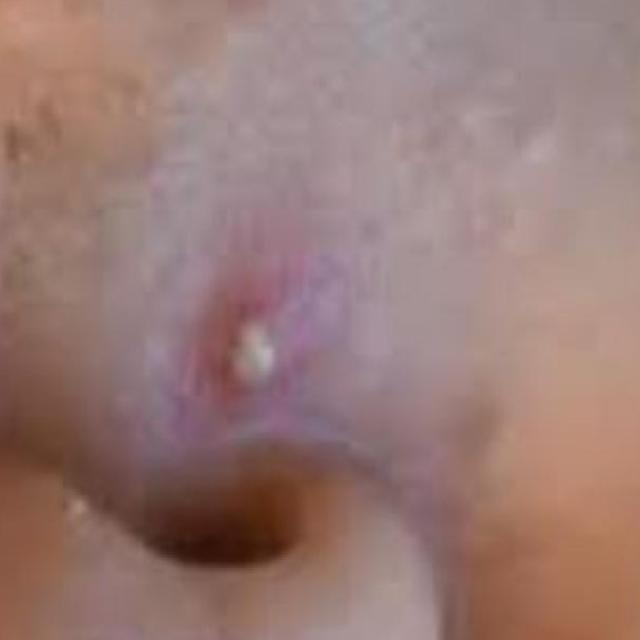pustule: (196, 275, 316, 430)
